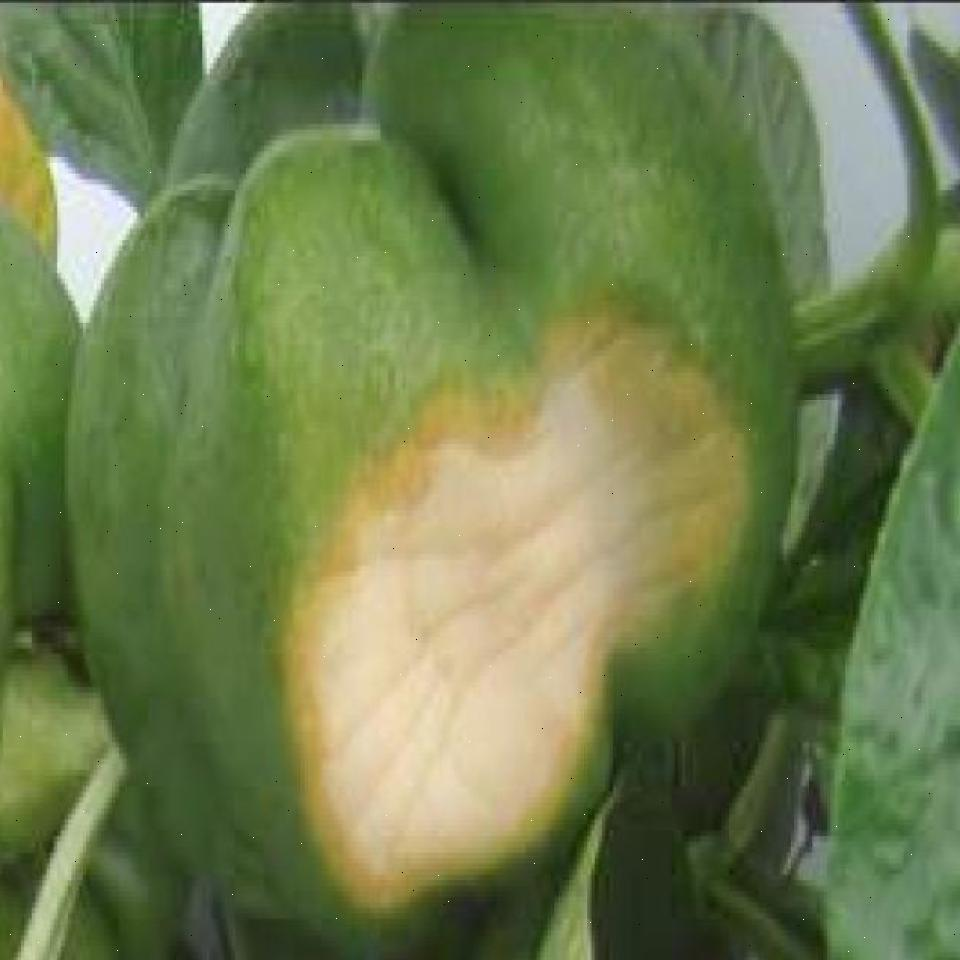Sunscald: (249, 296, 765, 930)
